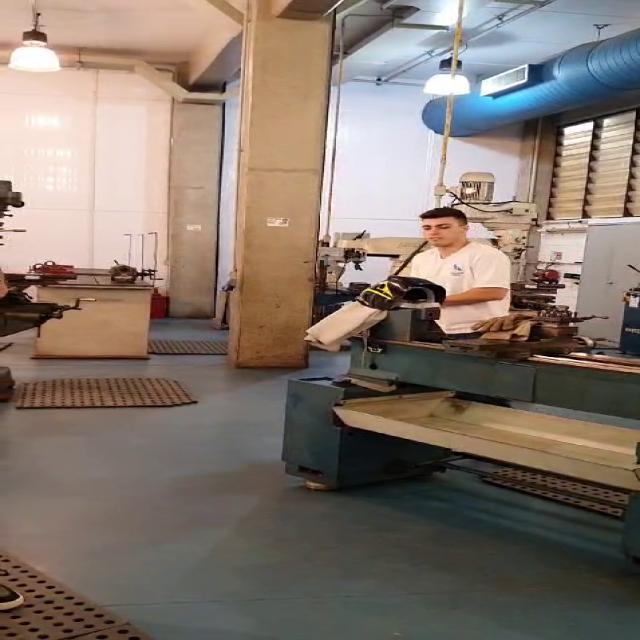sem_oculos: (415, 219, 476, 235)
